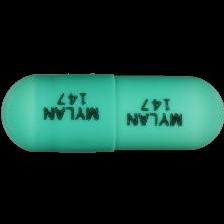0378-0147: (0, 0, 224, 224)
